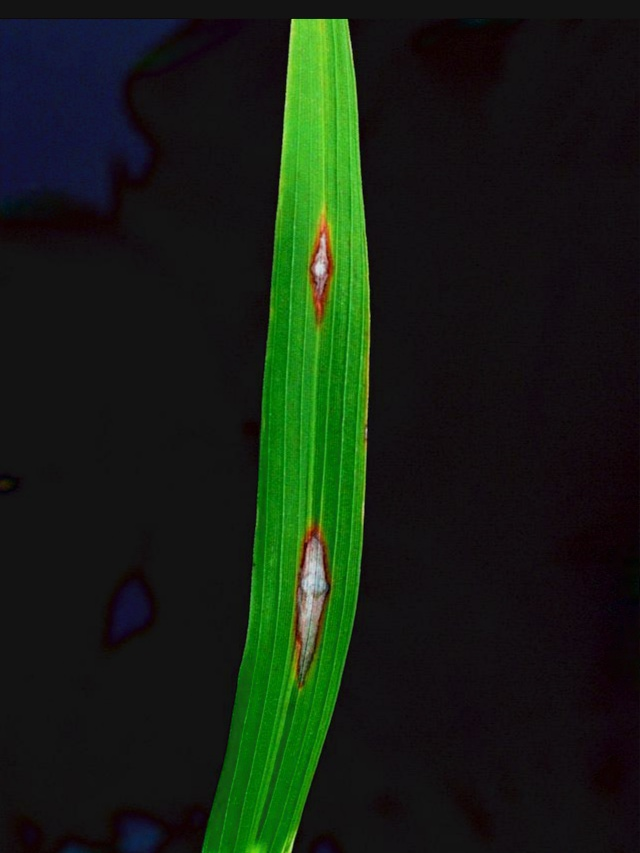Brown_Spot: (271, 522, 341, 703), (298, 208, 354, 332)
